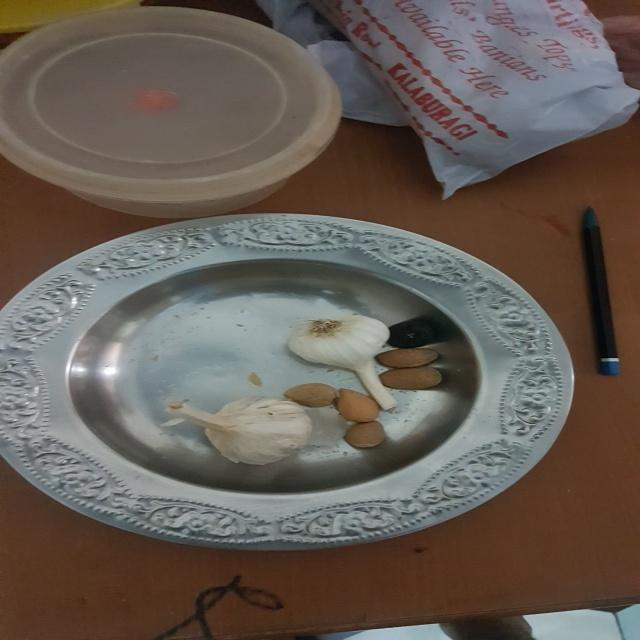garlic: (281, 308, 404, 409), (170, 395, 326, 464)
